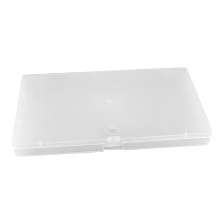plastic_box: (6, 60, 216, 161)
